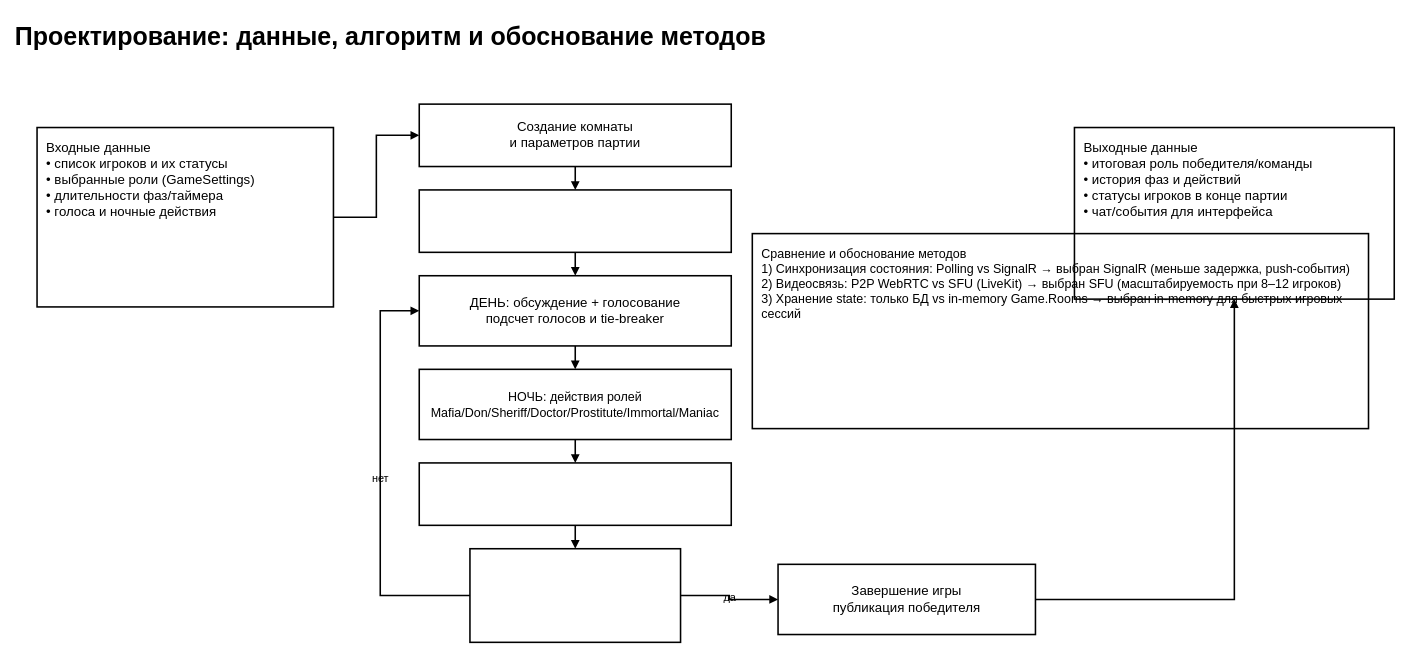
Some shapes in this 1408 by 656 pixel diagram are drawn without their labels. Here are the shapes that lost their labels. From the top down, the centre of each, then its label:
At point (575, 221): "Подключение игроков и распределение ролей".
At point (575, 494): "Применение эффектов обновление статусов и логов".
At point (575, 595): "Проверка условий победы".
